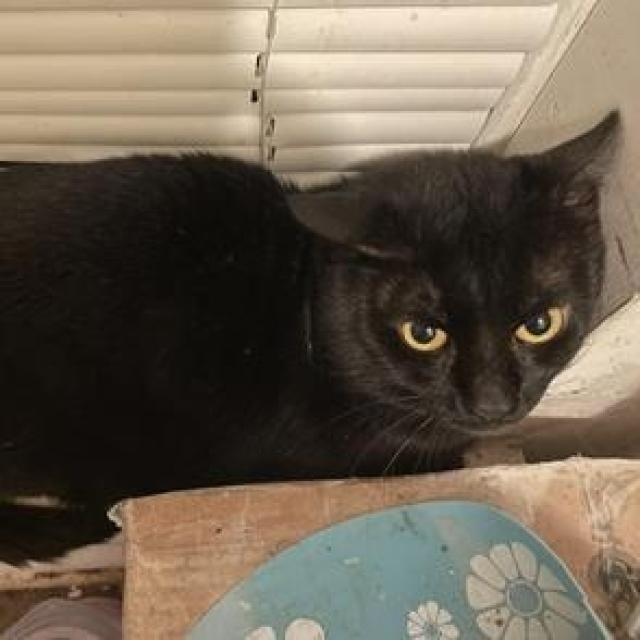bombay_cat: (275, 104, 633, 452)
